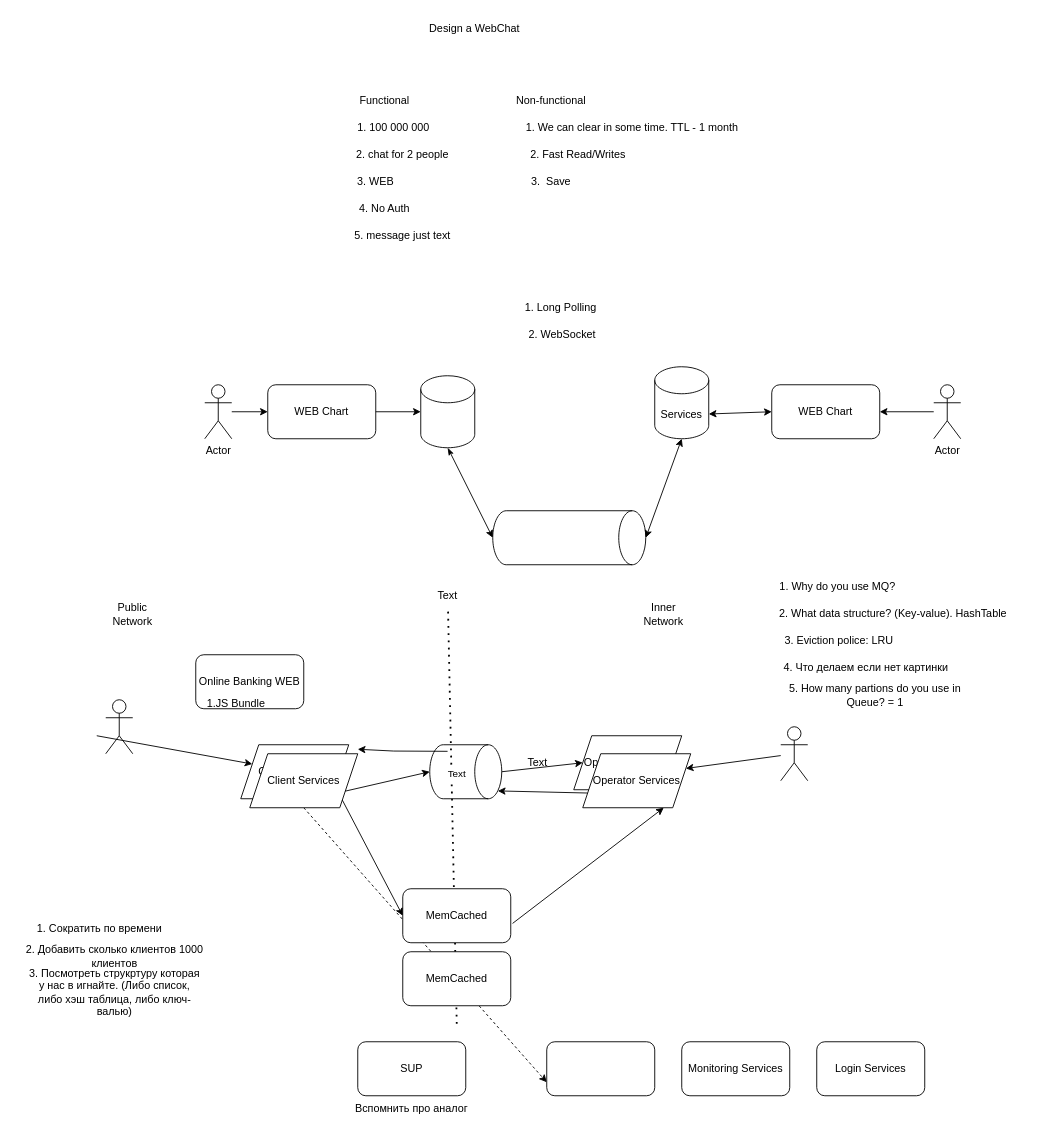
This 1039x1138 diagram has some shape labels left out. The centre of each missing label's shape, as x and y in pixels:
Audit Service: (x=600, y=1068)
Broker message: (x=569, y=537)
Client: (x=119, y=726)
Operator: (x=794, y=753)
Queue: (x=465, y=771)
Servises: (x=447, y=411)
